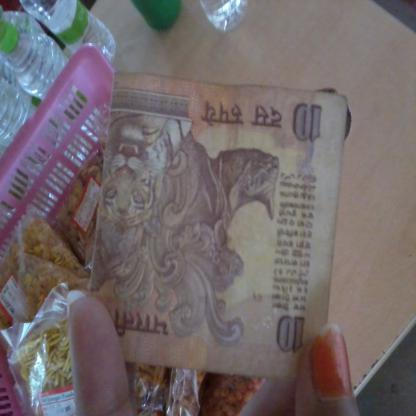Old10Back: (88, 70, 348, 382)
